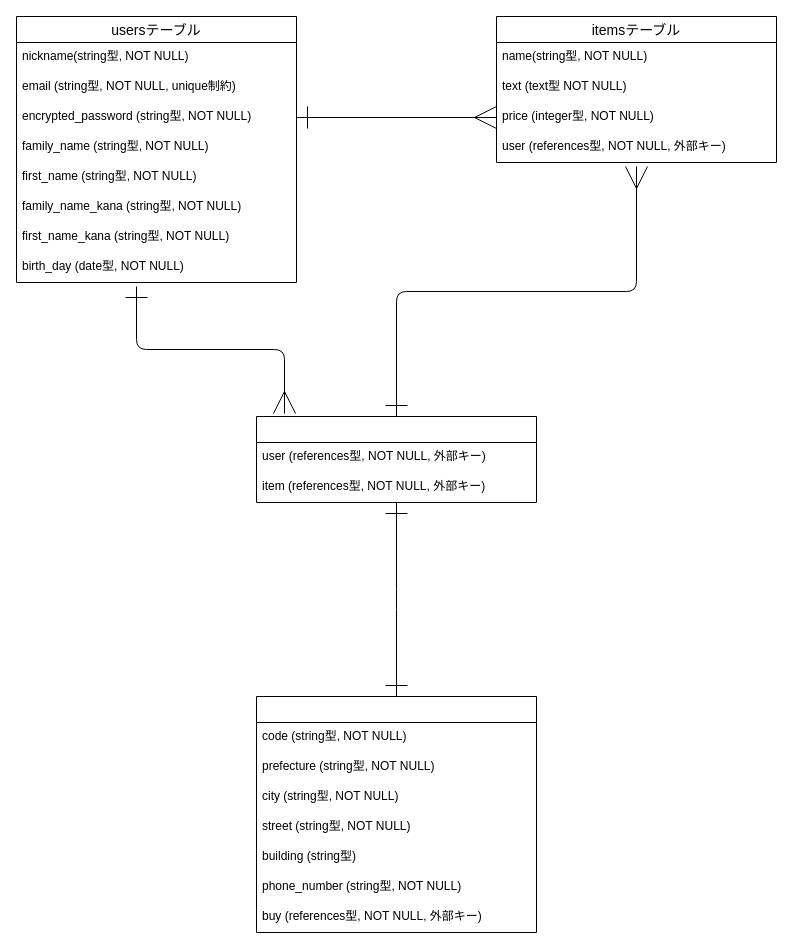
Some shapes in this 793 by 949 pixel diagram are drawn without their labels. The shapes that lost their labels are listed below. From the top down, each one's box as (x1, y1, x2, y2) in pixels, then its label:
(256, 416, 536, 502): buysテーブル
(256, 696, 536, 932): addressesテーブル
